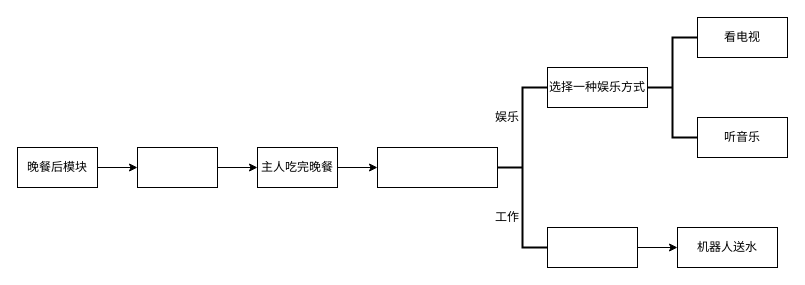
This 805x285 diagram has some shape labels left out. Here are the shapes that lost their labels. From the top down, the centre of each, then its label:
At point 177,167: "主人吃晚餐".
At point 437,167: "选择是娱乐还是工作".
At point 592,247: "人去工作".
